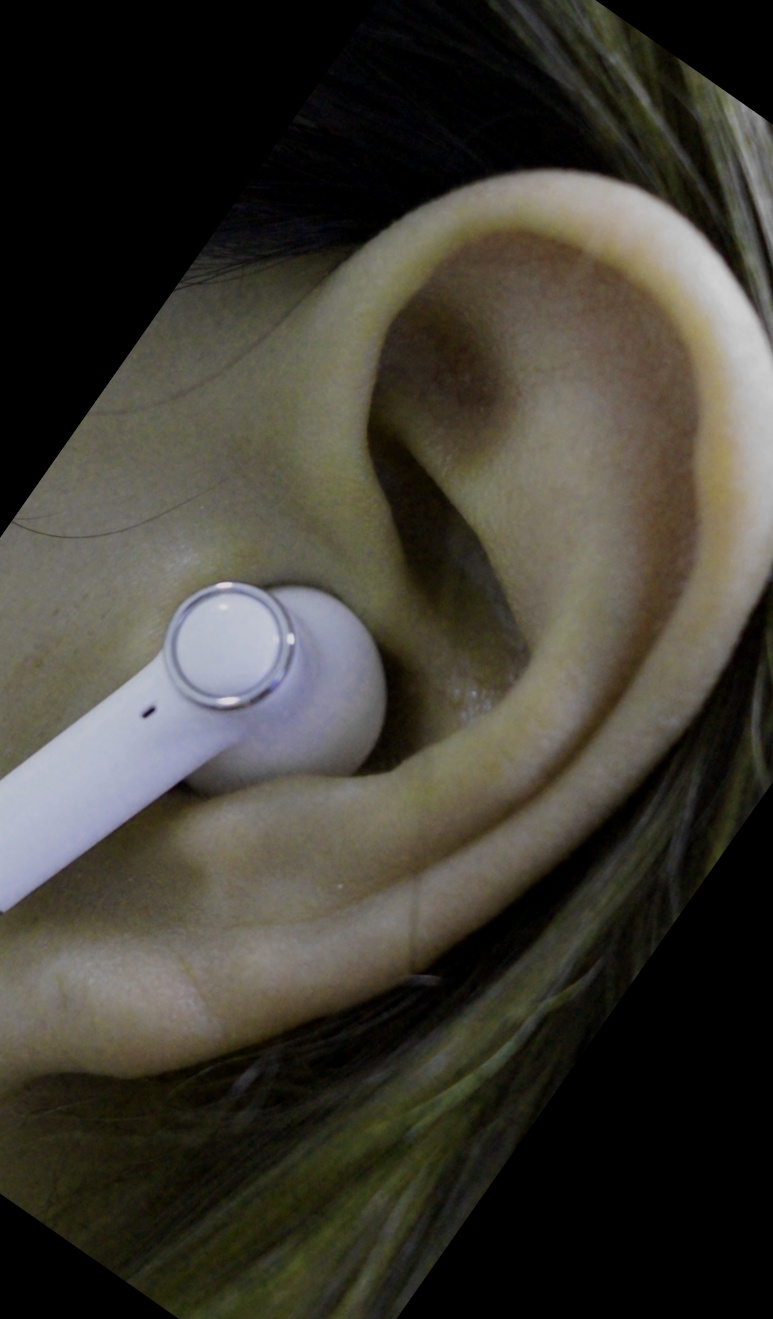earphone: (0, 62, 773, 1301)
